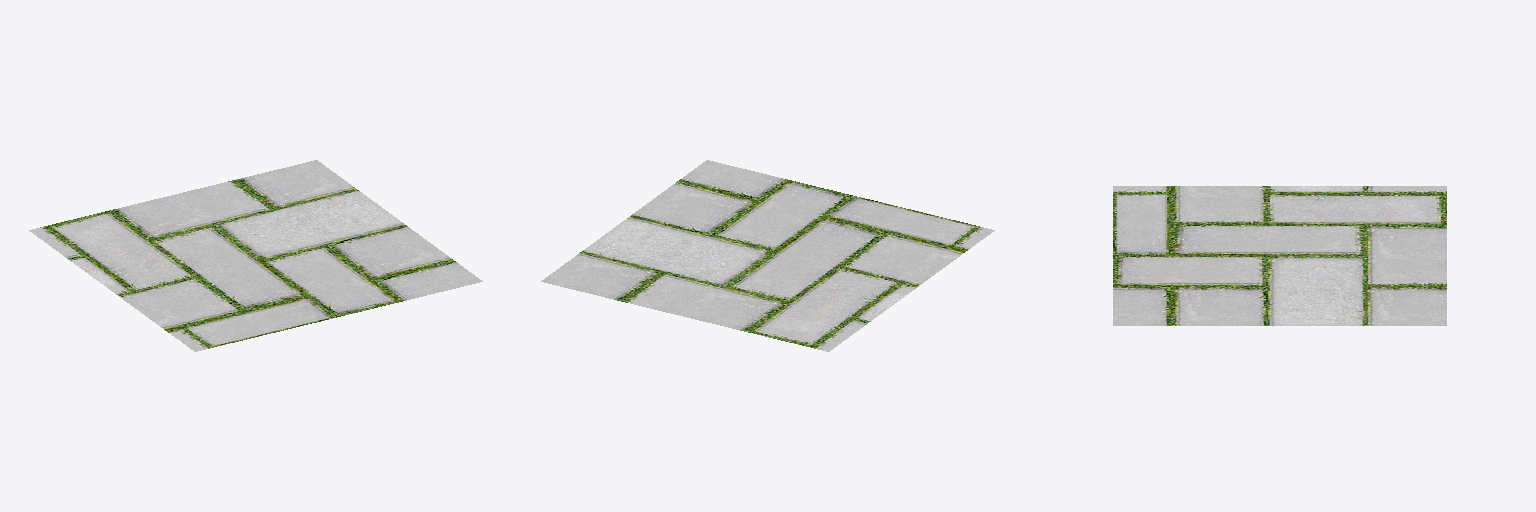
3 views of the same model, side by side, from view 1: azimuth 30°, elevation 25°; view 2: azimuth 150°, elevation 25°; view 3: azimuth 270°, elevation 25° (orthographic).
Visible parts, largest first — view 1: Plane.014; view 2: Plane.014; view 3: Plane.014.
Part boxes in pixels (bbox=[...]): Plane.014: bbox=[29, 160, 482, 351]; Plane.014: bbox=[541, 160, 994, 351]; Plane.014: bbox=[1113, 186, 1446, 325].
Size of the model in its own units: 10 by 0 by 10.
Materials: 1 (1 with a texture image).